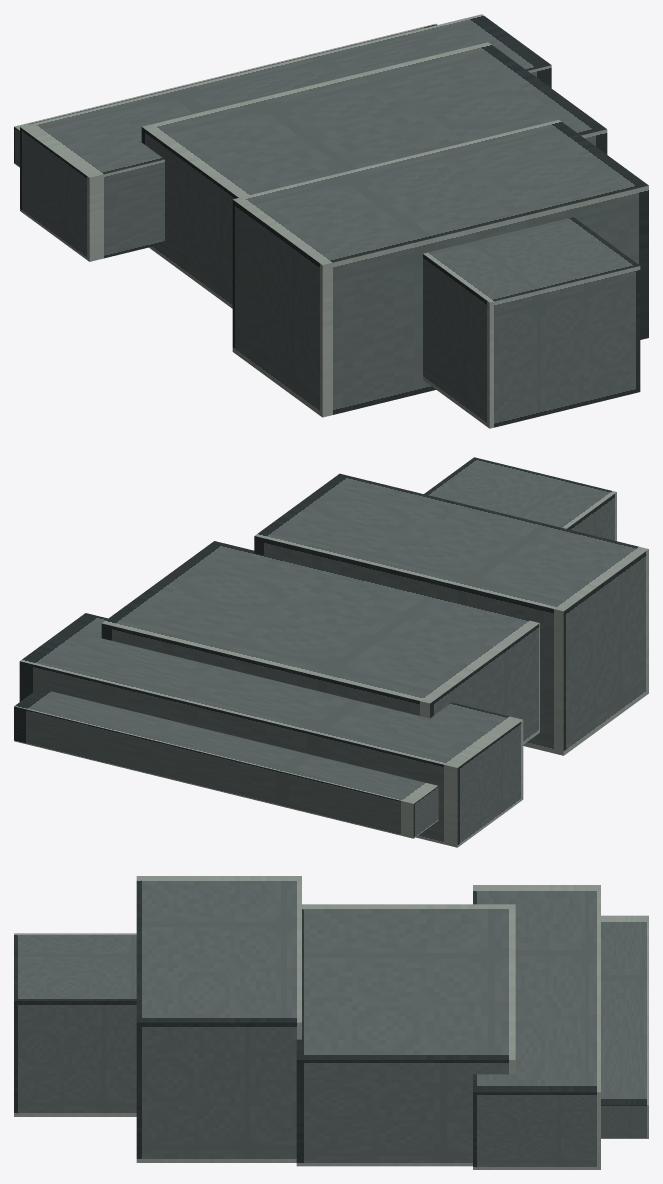
File: bench_axe_1.obj
3 renders of one model, top to bottom at view 1: azimuth 30°, elevation 25°; view 2: azimuth 150°, elevation 25°; view 3: azimuth 270°, elevation 25°, orthographic. The views are drawn at different scales.
Parts seen in each view (by area): view 1: geometry; view 2: geometry; view 3: geometry.
Boxes of the visible parts, x1,y1,x2,y2 form: geometry: (14, 14, 648, 428); geometry: (14, 457, 648, 847); geometry: (14, 876, 648, 1169).
Bounding box in the file's own units: 0.5798 × 0.1828 × 0.75.
